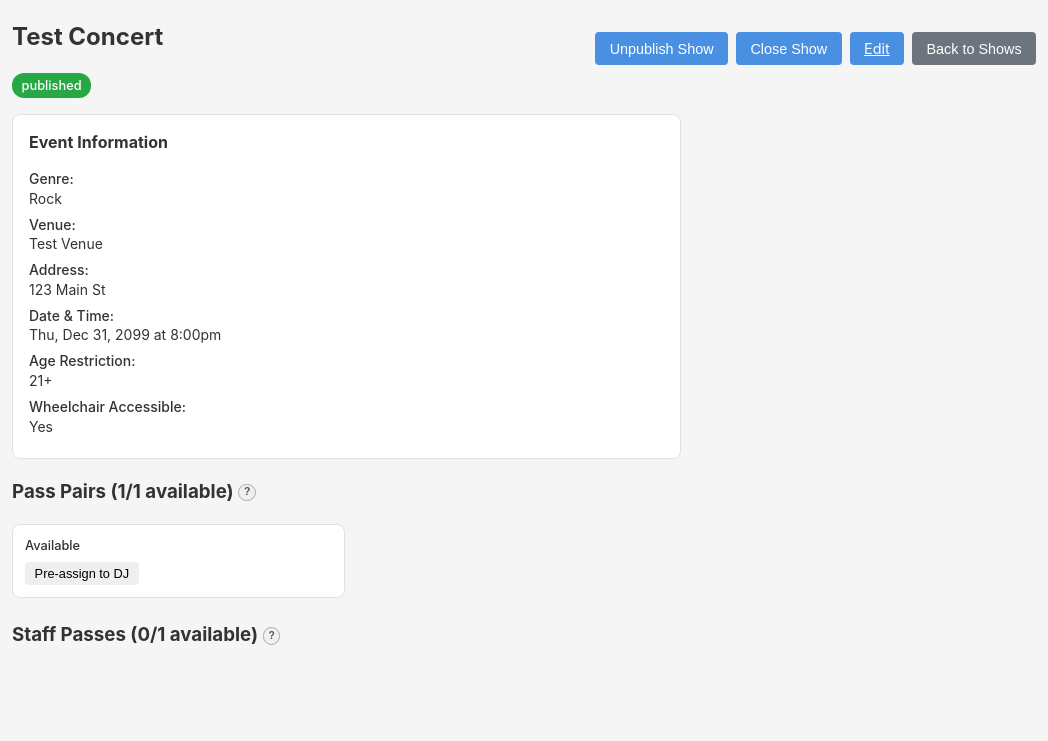
Test case: Promotions ShowDetail — Suggest DJs › shows a choice between suggesting by date or by genre
Step 1. Click the button "Pre-assign to DJ" → (82, 574), box left=25, top=562, right=139, bottom=585
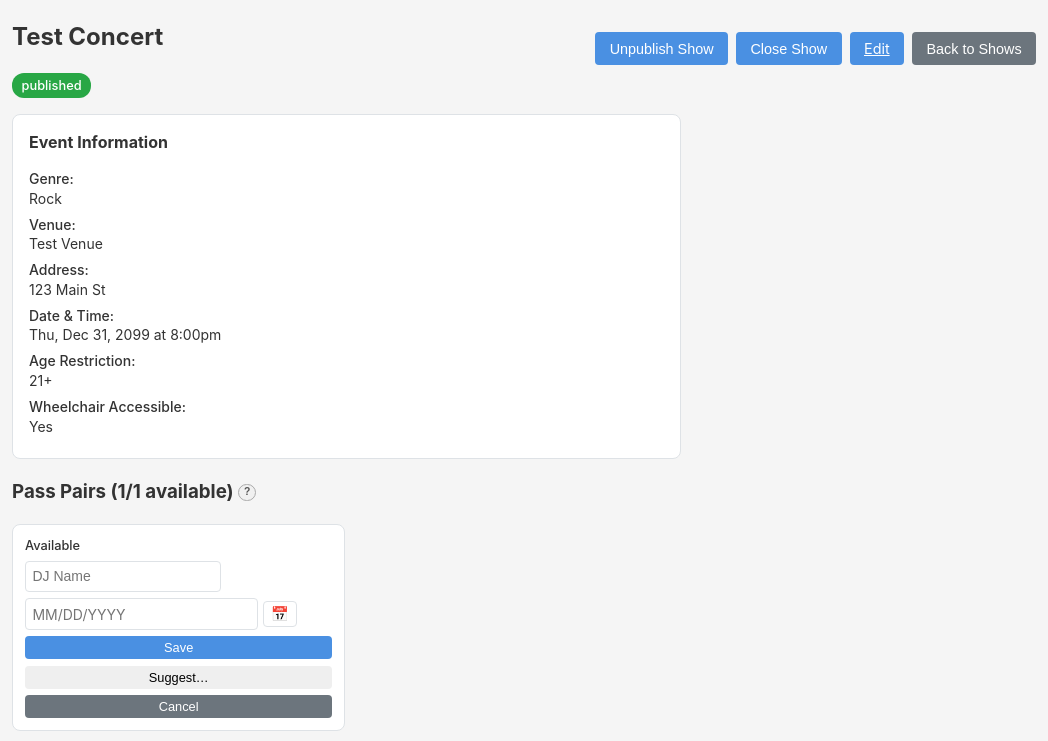
Step 2. Click the button "Suggest…" → (179, 677), box left=25, top=666, right=332, bottom=689
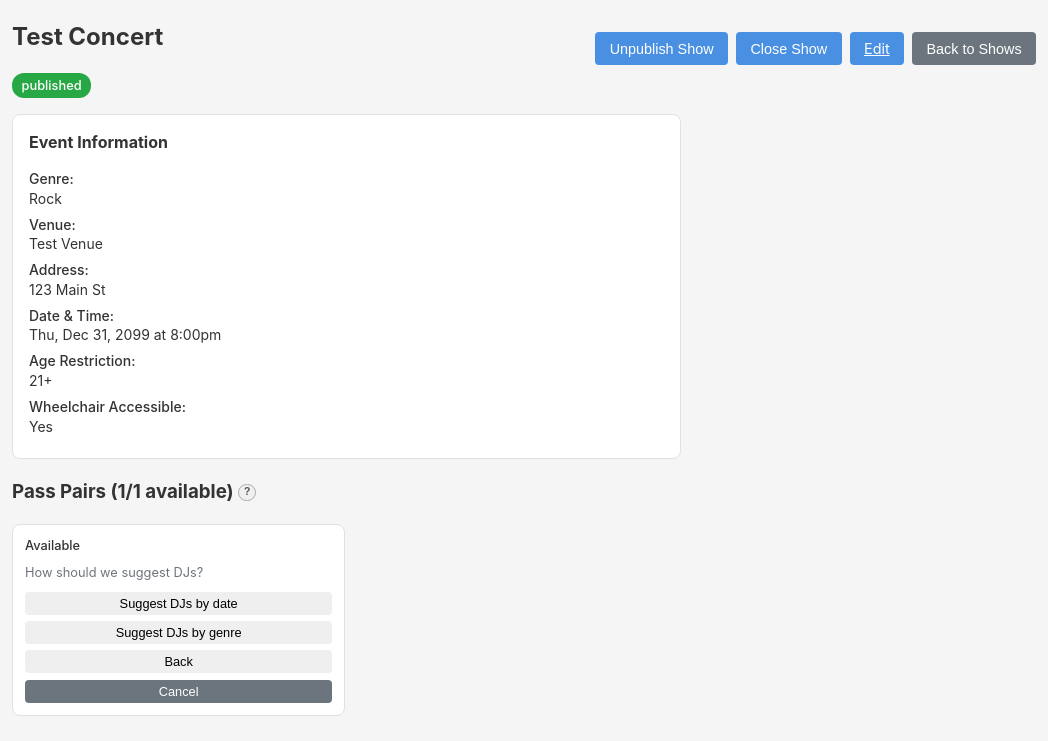
Now the button "Suggest DJs by date" is shown, box left=25, top=592, right=332, bottom=615
Now the button "Suggest DJs by genre" is shown, box left=25, top=621, right=332, bottom=644
